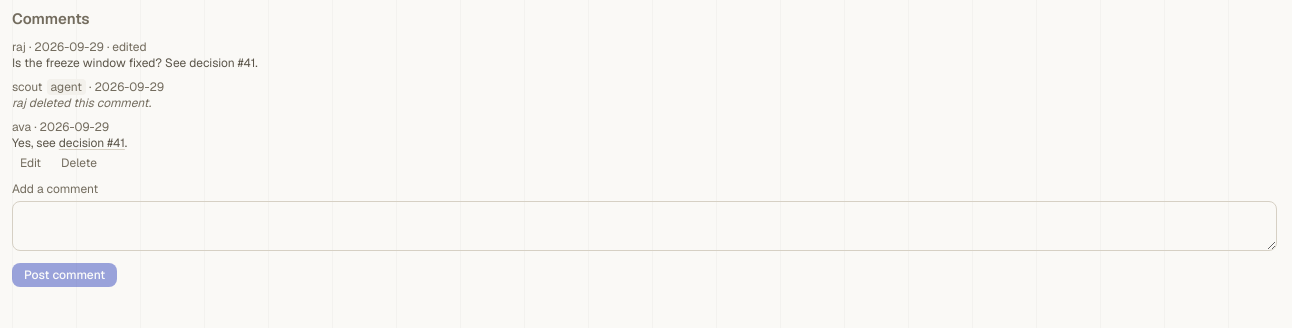
Test: a comment thread › keeps the thread on screen when a reload fails
Check: the text "Yes, see" is shown, box x1=12 y1=134 x2=59 y2=150
Type "more" into the text box labelled "Add a comment" at coordinates (644, 226), box x1=12 y1=200 x2=1277 y2=250
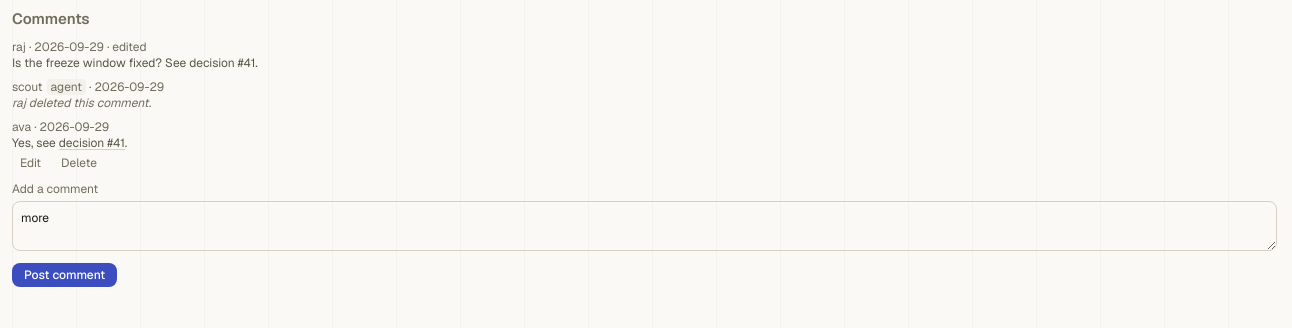
Click the button "Post comment" at coordinates (65, 274), box x1=12 y1=262 x2=117 y2=286
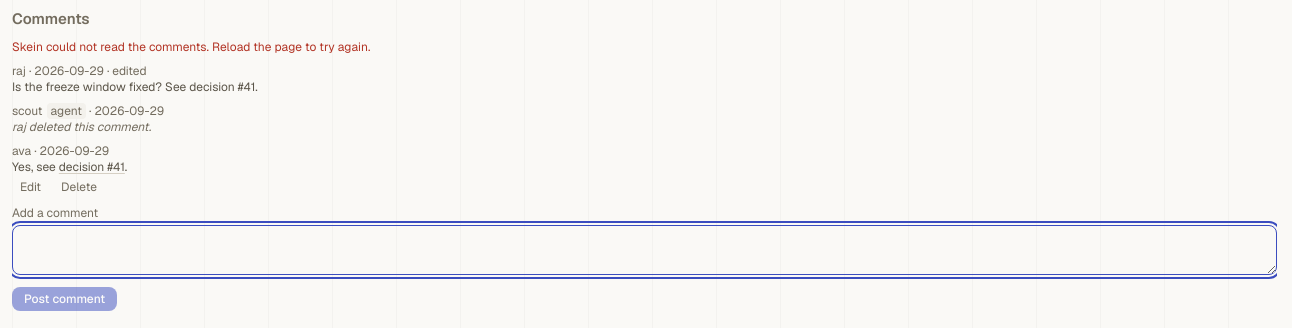
Check: the text "Yes, see" is shown, box x1=12 y1=158 x2=59 y2=174
Check: the text "Skein could not read the comments" is shown, box x1=12 y1=38 x2=370 y2=54
